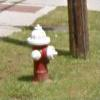Hydrant: (18, 12, 60, 91)
